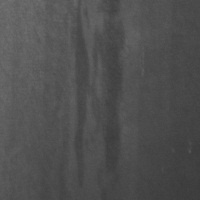inclusion: (73, 1, 125, 190)
